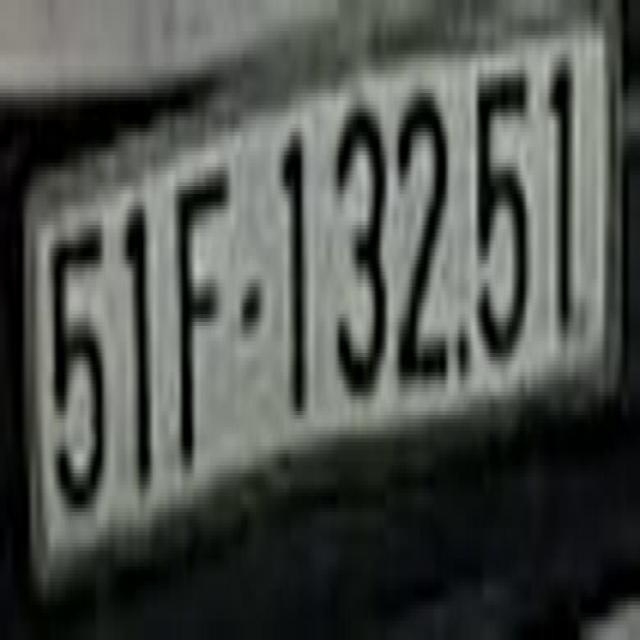1: (117, 190, 160, 497), (275, 104, 312, 430), (545, 35, 577, 345)
2: (394, 66, 449, 403)
3: (332, 89, 389, 407)
5: (46, 217, 112, 520), (473, 47, 532, 360)
F: (173, 159, 234, 465)
